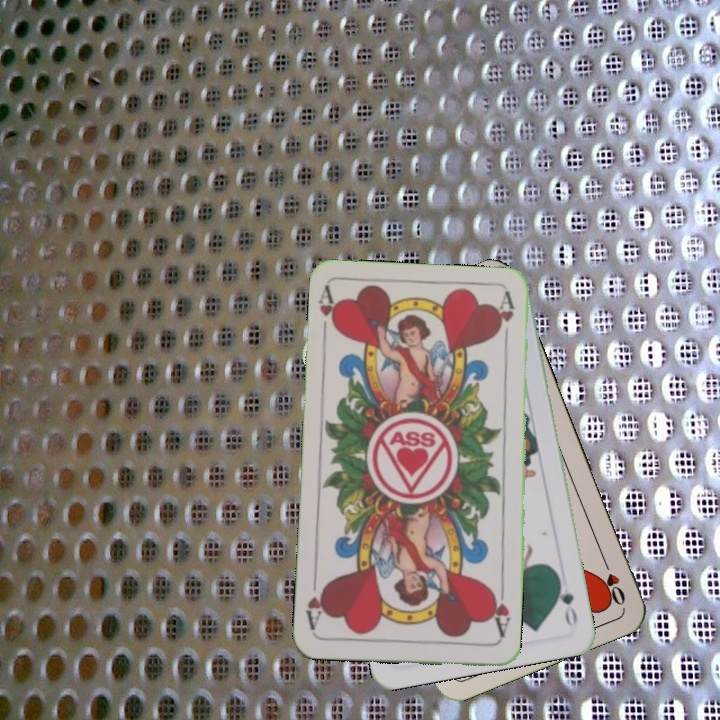GO: (553, 572, 580, 630)
HA: (315, 284, 342, 343), (486, 582, 513, 640)
HO: (597, 552, 628, 609)
